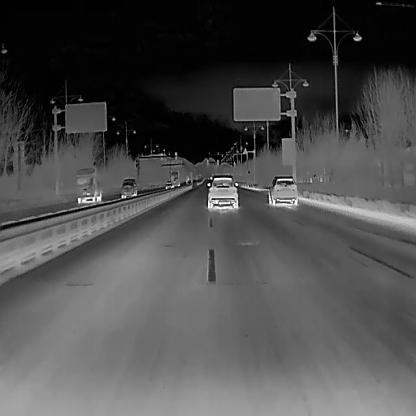car: (206, 173, 238, 211), (74, 168, 102, 202), (268, 175, 296, 205), (120, 177, 137, 198)
